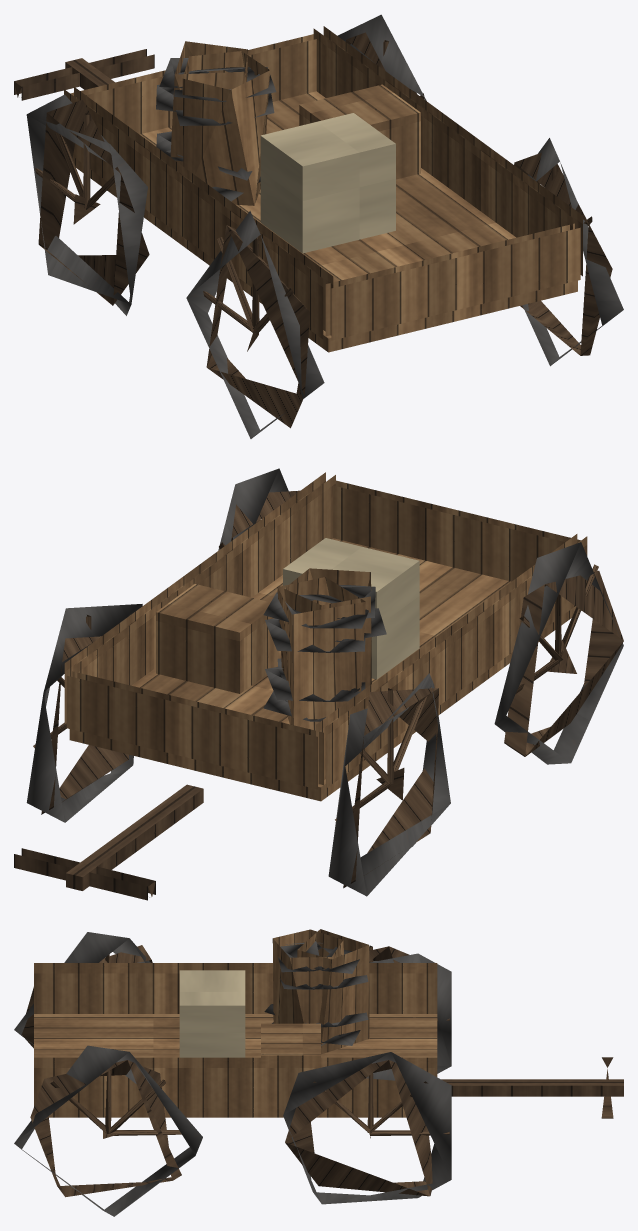
Rendered from Prop_Wagon_Loaded_LOD1.gltf.
3 renders of one model, top to bottom at view 1: azimuth 30°, elevation 25°; view 2: azimuth 150°, elevation 25°; view 3: azimuth 270°, elevation 25°, orthographic. The views are drawn at different scales.
Visible parts, largest first — view 1: Prop_Wagon_Loaded_LOD1; view 2: Prop_Wagon_Loaded_LOD1; view 3: Prop_Wagon_Loaded_LOD1.
Boxes of the visible parts, x1,y1,x2,y2 form: Prop_Wagon_Loaded_LOD1: (14,14,623,438); Prop_Wagon_Loaded_LOD1: (14,468,623,900); Prop_Wagon_Loaded_LOD1: (14,929,623,1216).
Size of the model in its own units: 1.96 by 1.42 by 4.08.
4 materials, 4 textured.
